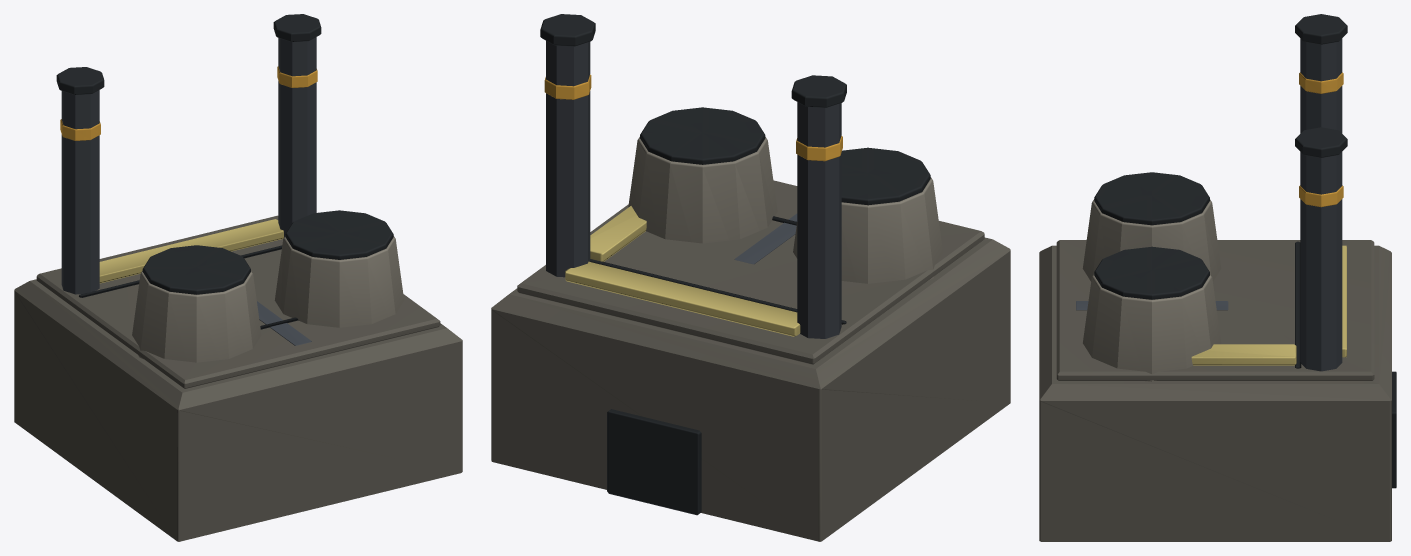
File: power_plant.glb
The picture shows the model from 3 angles, left to right: view 1: azimuth 30°, elevation 25°; view 2: azimuth 150°, elevation 25°; view 3: azimuth 270°, elevation 25°; orthographic projection. The views are drawn at different scales.
Visible parts, largest first — view 1: Body; view 2: Body; view 3: Body.
Part boxes in pixels (x1,y1,x2,y2): Body: (14,14,462,541); Body: (491,14,1010,541); Body: (1039,14,1396,541).
Size of the model in its own units: 5 by 6.06 by 5.07.
